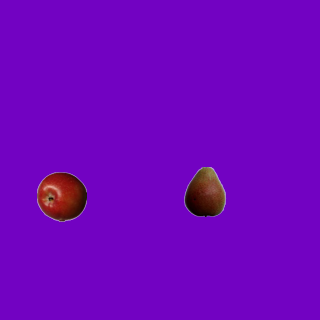Apple Braeburn: (36, 171, 86, 221)
Pear Forelle: (179, 166, 229, 216)
